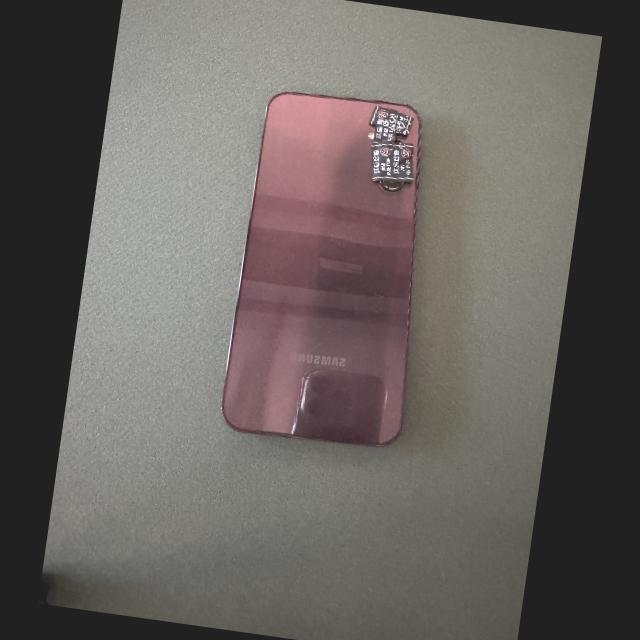lens: (380, 181, 402, 190)
phone: (222, 92, 421, 446)
sticker: (369, 106, 414, 136), (392, 143, 414, 182), (372, 143, 392, 181), (372, 126, 393, 143)
